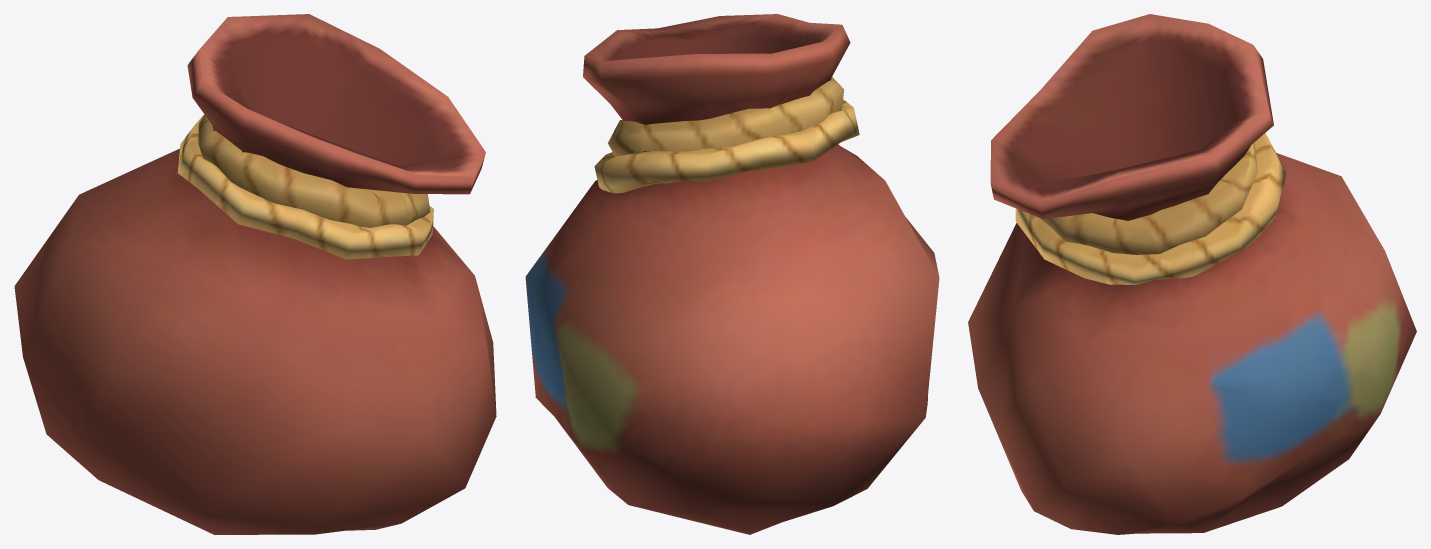
Rendered from PirateKit@Pouch.fbx.
3 views of the same model, side by side, from view 1: azimuth 30°, elevation 25°; view 2: azimuth 150°, elevation 25°; view 3: azimuth 270°, elevation 25° (orthographic). The views are drawn at different scales.
Visible parts, largest first — view 1: PirateKit:Pouch; view 2: PirateKit:Pouch; view 3: PirateKit:Pouch.
Part boxes in pixels (bbox=[...]): PirateKit:Pouch: bbox=[14, 14, 496, 534]; PirateKit:Pouch: bbox=[525, 14, 939, 534]; PirateKit:Pouch: bbox=[968, 14, 1416, 534].
Size of the model in its own units: 19.38 by 22.59 by 19.98.
